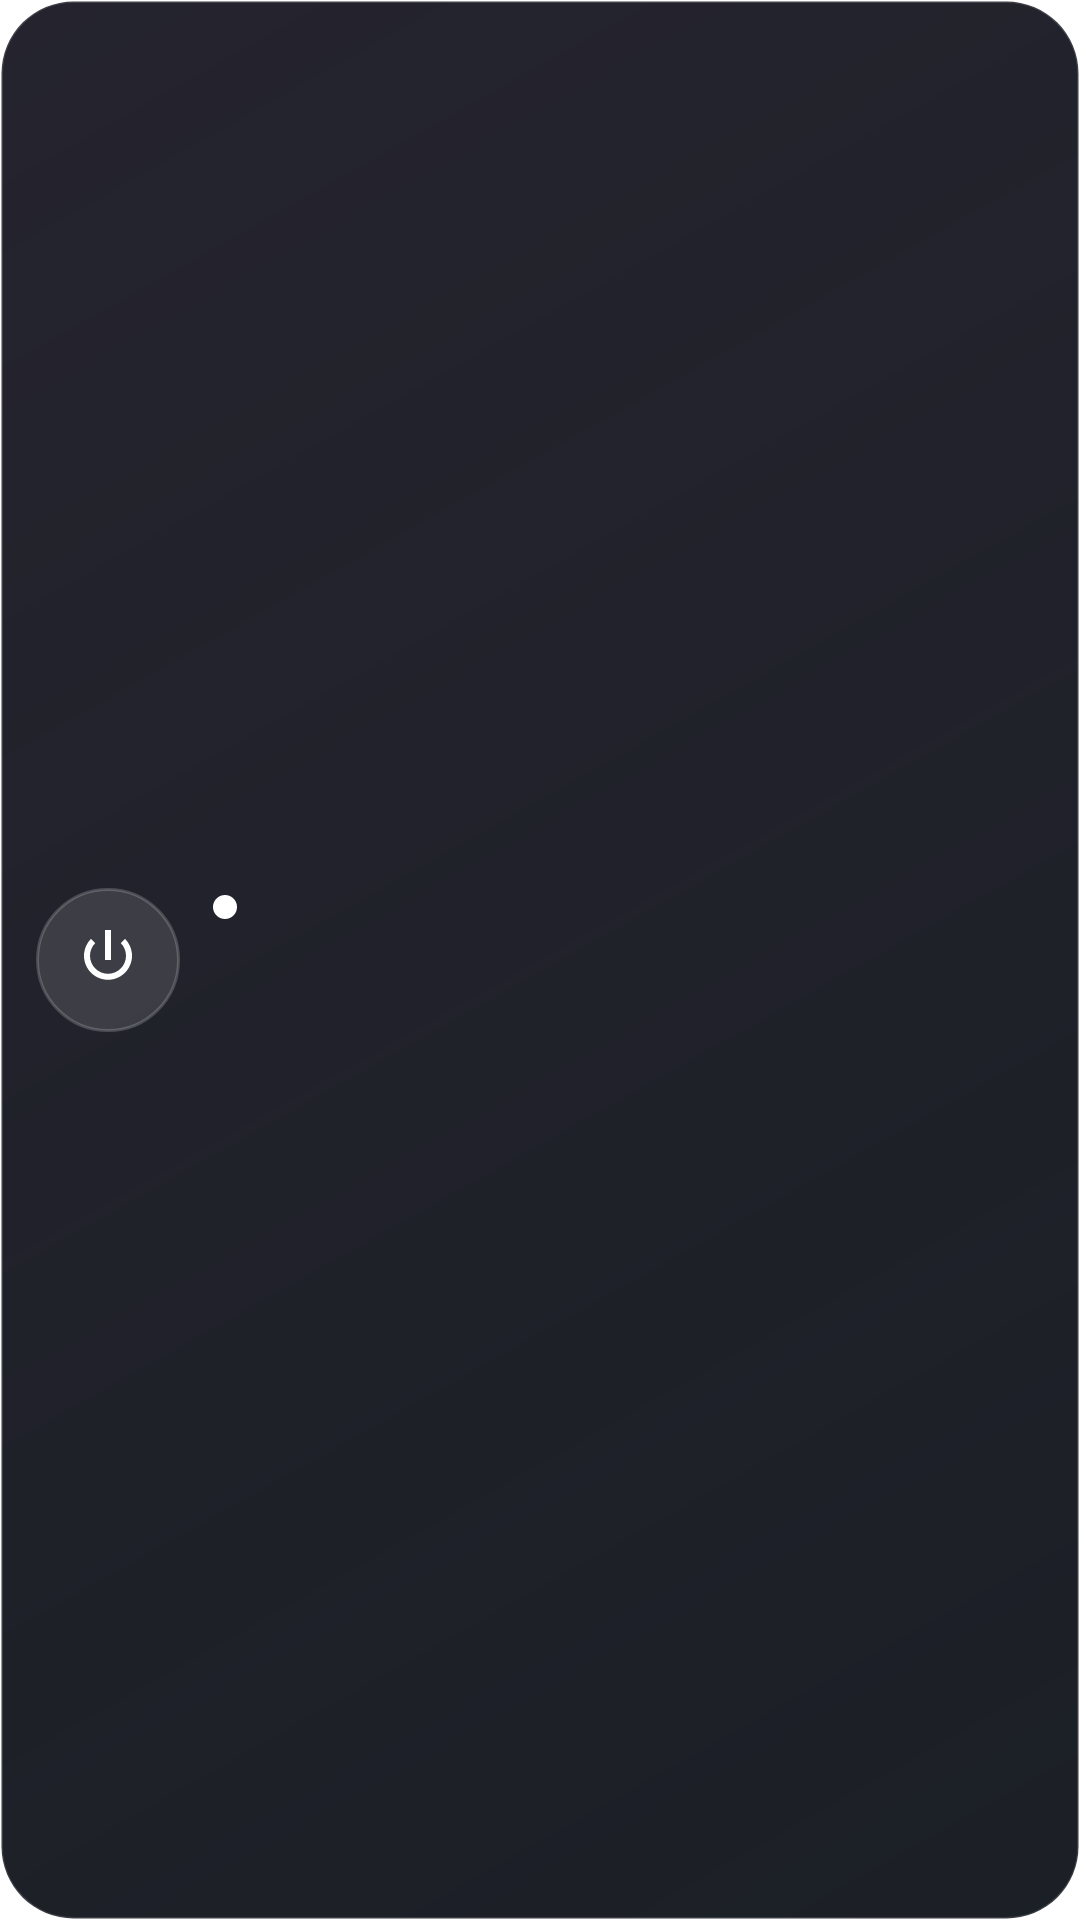

Icons on this 1080×1920 Android screen, each with the point to tap as point (x, y):
Toggle proxy: point (108, 960)
